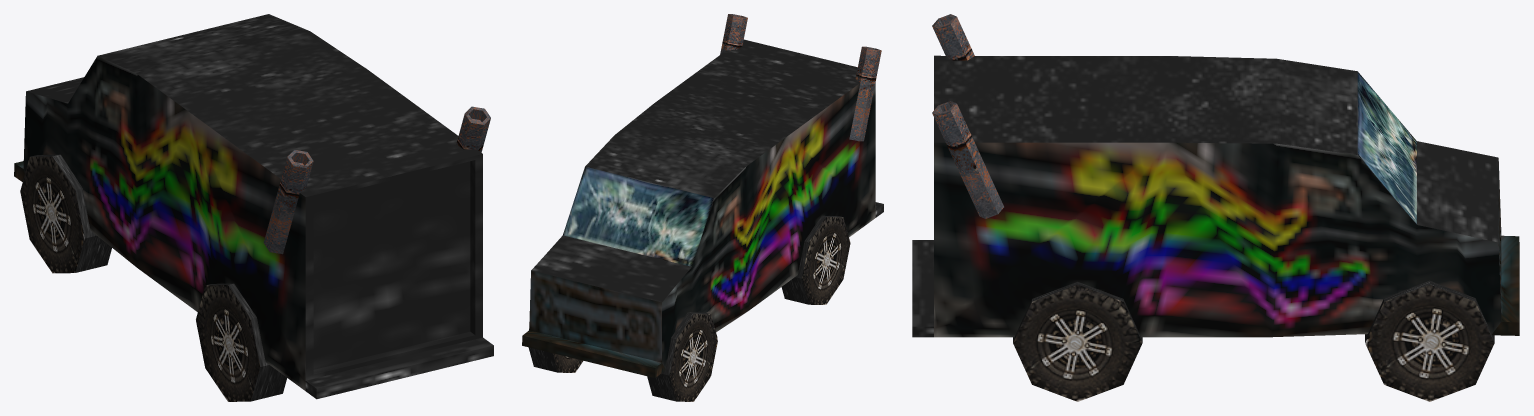
The model's file is player-car.fbx.
3 views of the same model, side by side, from view 1: azimuth 30°, elevation 25°; view 2: azimuth 150°, elevation 25°; view 3: azimuth 270°, elevation 25° (orthographic). The views are drawn at different scales.
Parts seen in each view (by area): view 1: Cube, Cylinder.001, Cylinder, Cylinder.004; view 2: Cube, Cylinder.001, Cylinder, Cylinder.004; view 3: Cube, Cylinder.001, Cylinder, Cylinder.004.
Part boxes in pixels (x1,y1,x2,y2): Cube: (14, 14, 493, 399); Cylinder.001: (20, 154, 111, 273); Cylinder: (196, 283, 286, 401); Cylinder.004: (263, 106, 490, 254); Cube: (522, 39, 883, 377); Cylinder.001: (528, 312, 717, 401); Cylinder: (781, 215, 850, 304); Cylinder.004: (720, 14, 881, 141); Cube: (912, 55, 1519, 337); Cylinder.001: (1365, 280, 1494, 401); Cylinder: (1013, 281, 1142, 401); Cylinder.004: (932, 14, 1003, 218).
Size of the model in its own units: 435 by 620 by 1155.
